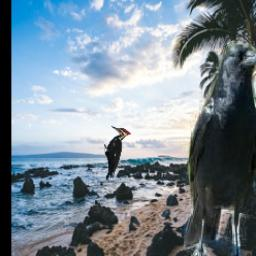Crow: (184, 41, 256, 256)
Woodpecker: (104, 126, 131, 181)
